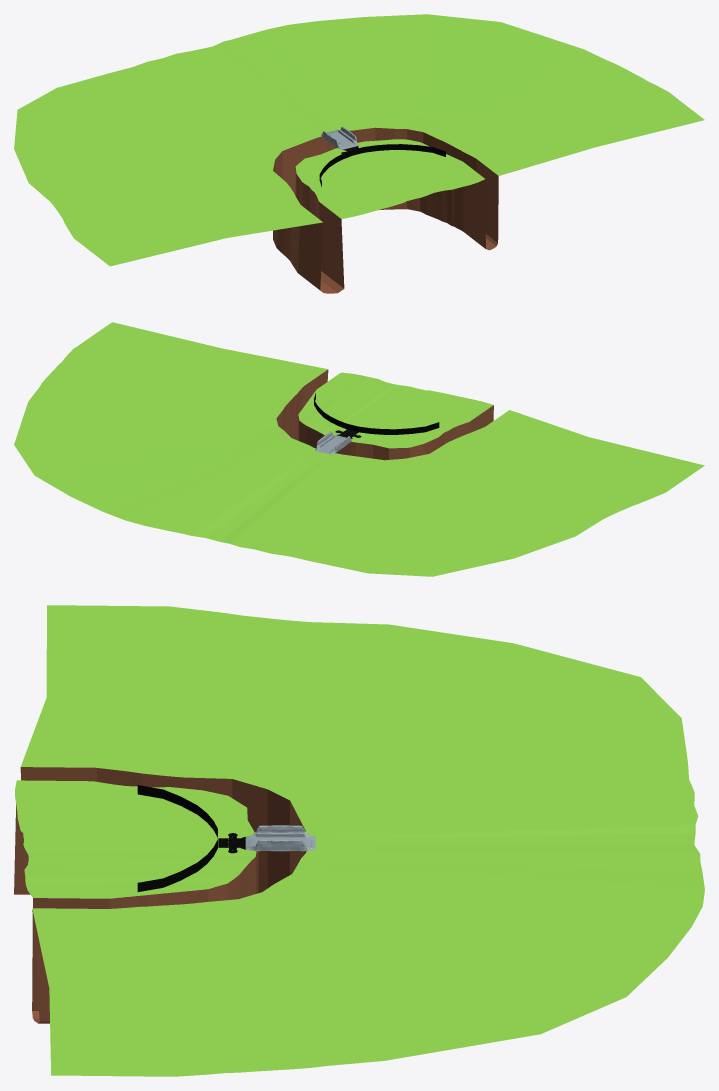
The model's file is bridge.glb.
3 views of the same model, one above another, from view 1: azimuth 30°, elevation 25°; view 2: azimuth 150°, elevation 25°; view 3: azimuth 270°, elevation 25° (orthographic). The views are drawn at different scales.
Parts seen in each view (by area): view 1: Floor, Plane, Bridge; view 2: Floor, Plane, Bridge; view 3: Floor, Plane, Bridge.
Boxes of the visible parts, box(x1,y1,x2,y2) form: Floor: box(14, 14, 704, 293); Plane: box(319, 144, 445, 186); Bridge: box(320, 126, 358, 149); Floor: box(14, 322, 704, 576); Plane: box(314, 393, 439, 438); Bridge: box(315, 431, 352, 454); Floor: box(14, 605, 704, 1076); Plane: box(137, 785, 245, 891); Bridge: box(245, 825, 315, 851).
Size of what is drawn, in the model's own units: 858 by 109 by 531.
1 material, 1 textured.
